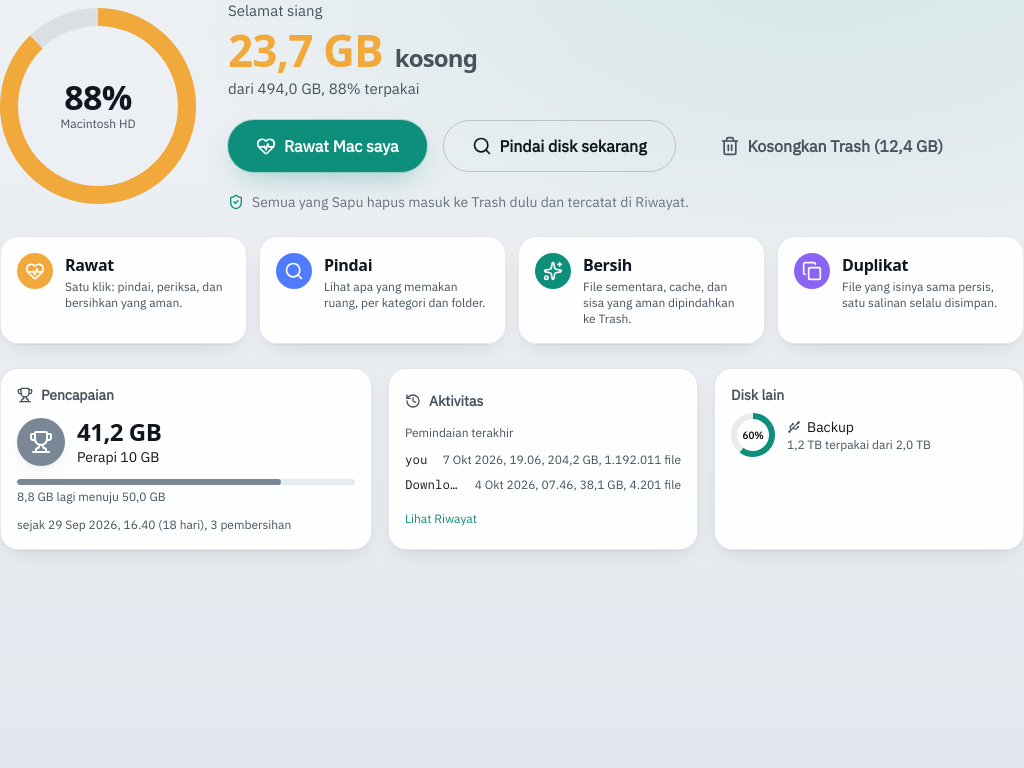
Scenario: HomeView empty trash › says plainly when the Trash is not empty after emptying, with why
Click the button "Kosongkan Trash (12,4 GB)" at {"x": 831, "y": 146}, box [692,120,971,172]
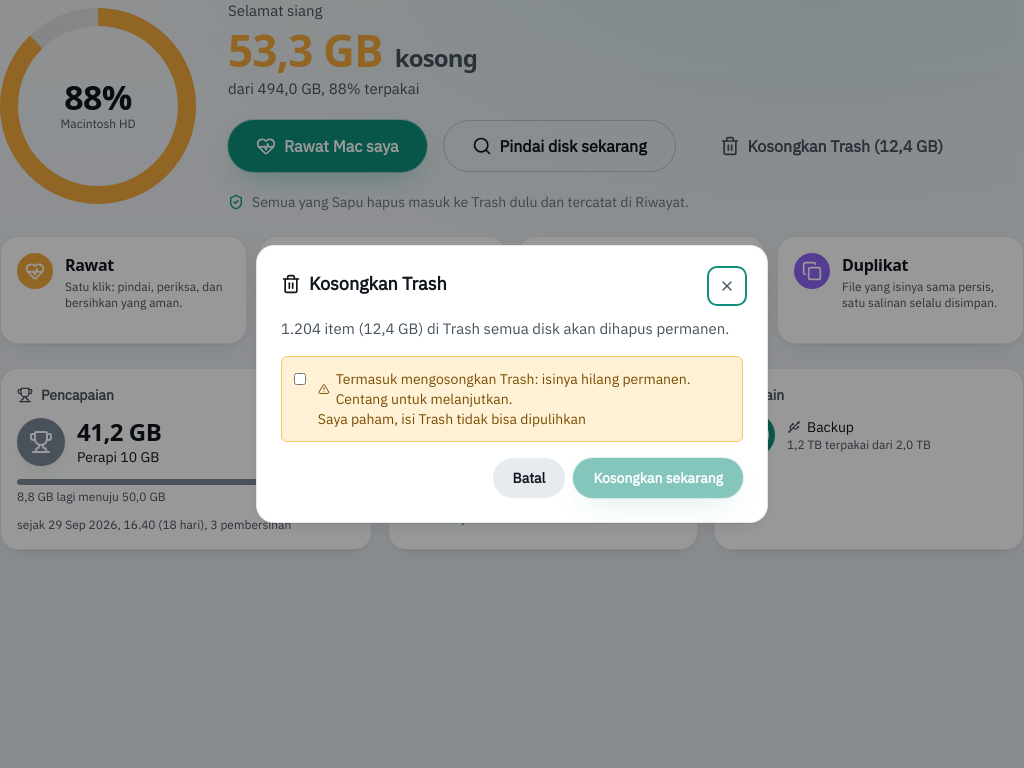
Click the checkbox at {"x": 300, "y": 379}, box [294,371,306,387]
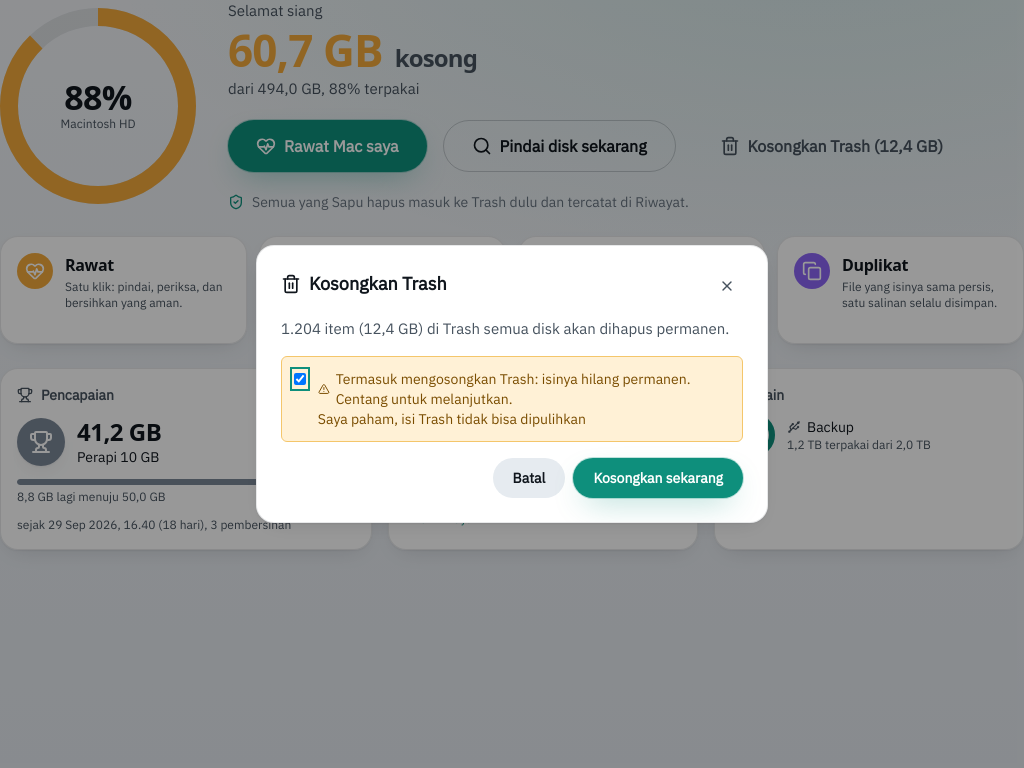
Click the button "Kosongkan sekarang" at {"x": 658, "y": 478}, box [573,458,743,498]
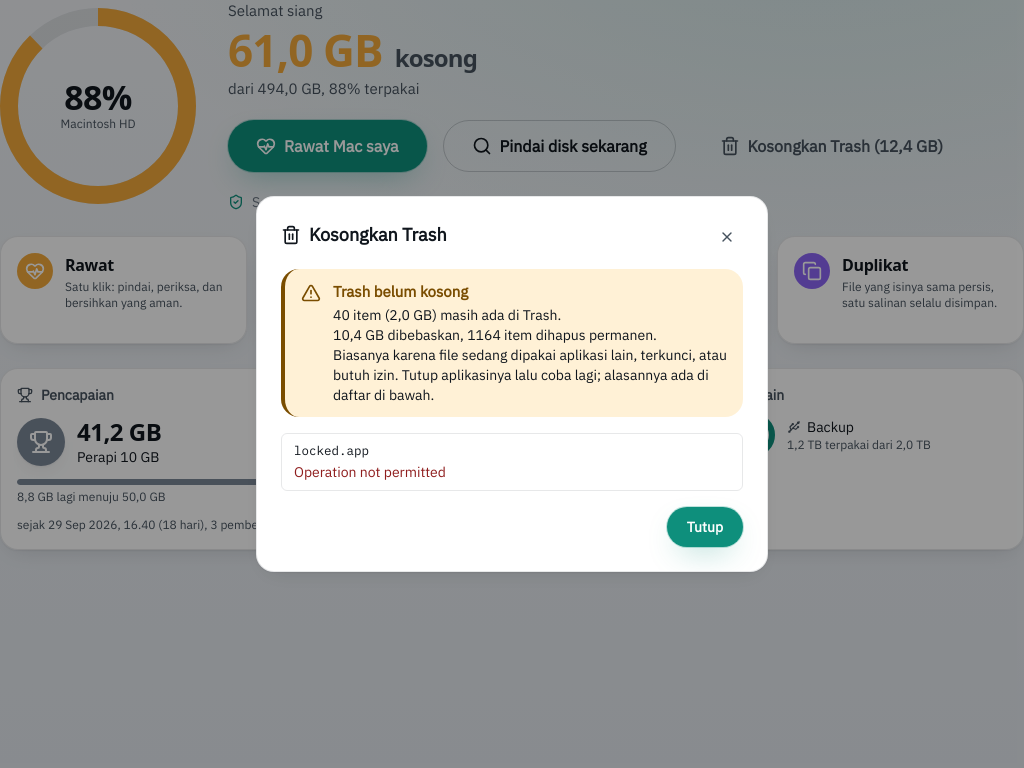
Now the element that starts with "Trash belum kosong" is shown, box [333,282,468,301]
Now the element that starts with "Trash belum kosong" shows "40 item (2,0 GB) masih ada", box [333,306,561,324]
Now the text "locked.app" is shown, box [294,442,369,458]
Click the button "Tutup" at {"x": 705, "y": 527}, box [667,507,743,547]
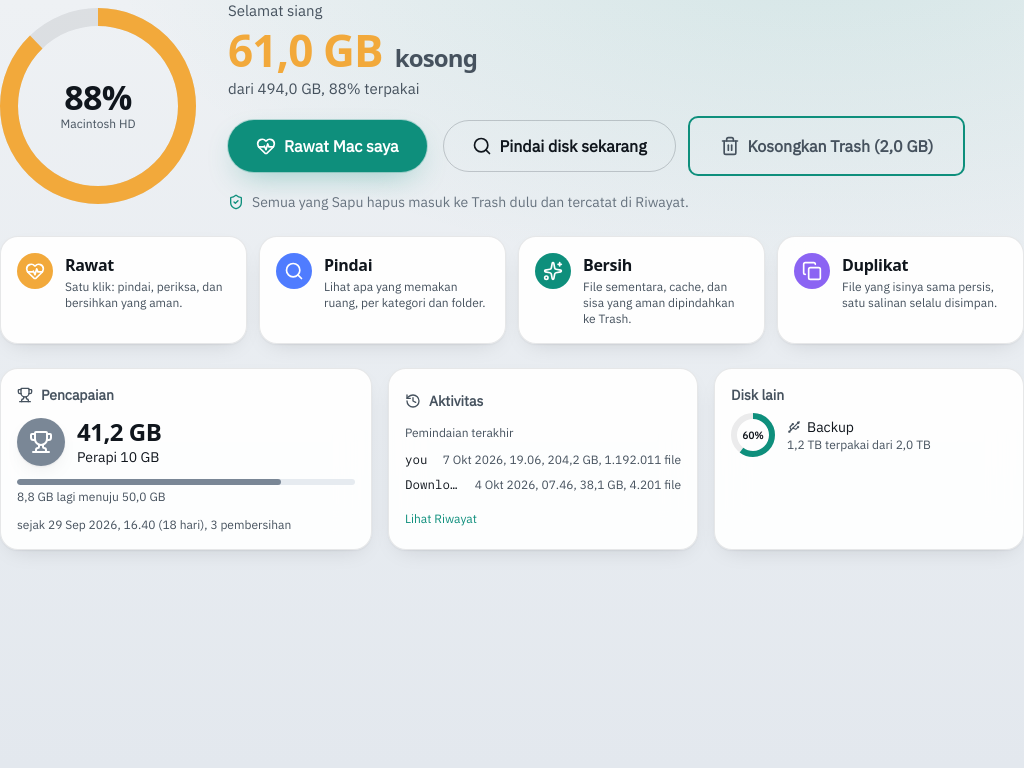
Now the button "Kosongkan Trash (2,0 GB)" is shown, box [692,120,961,172]
